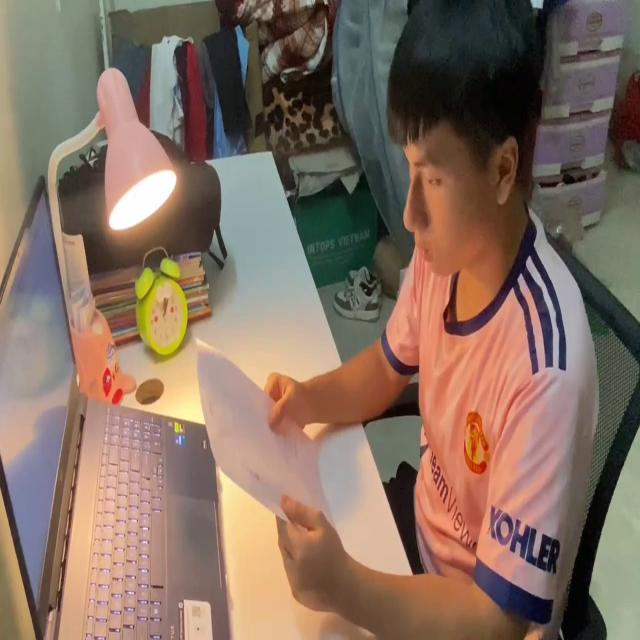book: (196, 328, 330, 547)
laptop: (0, 166, 230, 640)
student: (263, 0, 602, 640)
